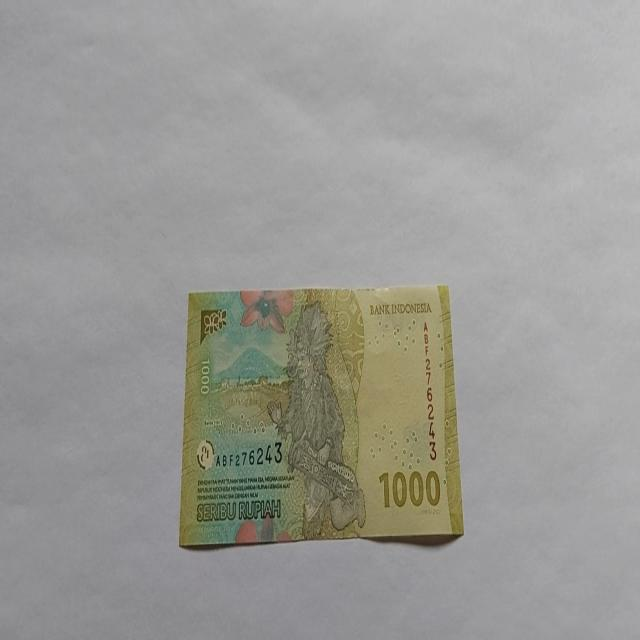seribu rupiah kertas: (178, 282, 464, 548)
